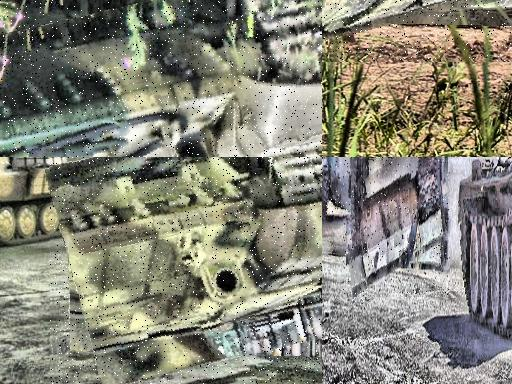tanks: (51, 158, 323, 384), (1, 1, 323, 158), (344, 161, 451, 297), (460, 158, 512, 337), (324, 158, 352, 215)
